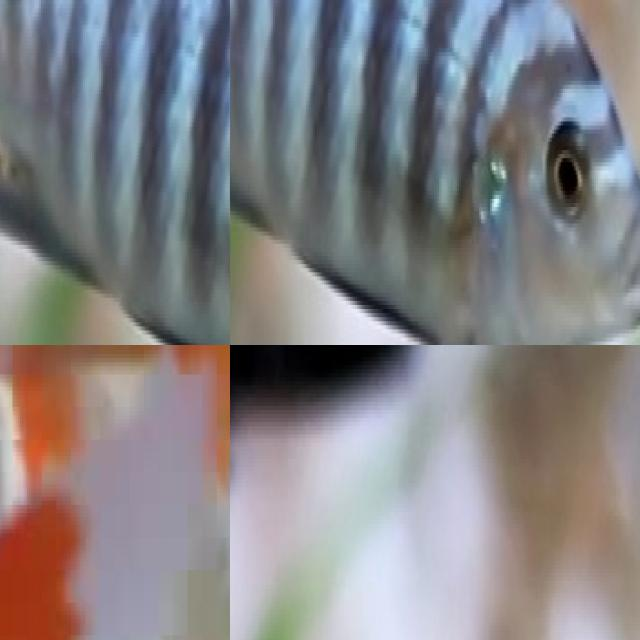fish: (0, 0, 230, 345), (230, 345, 566, 487)
